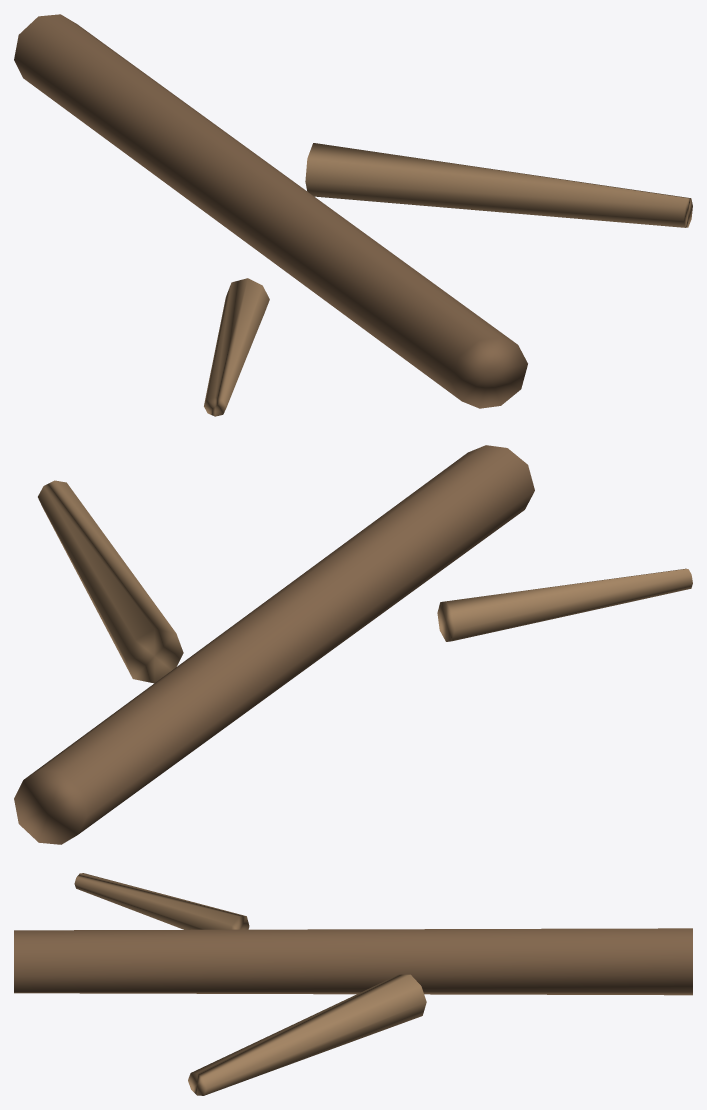
File: branch_a.glb
3 renders of one model, top to bottom at view 1: azimuth 30°, elevation 25°; view 2: azimuth 150°, elevation 25°; view 3: azimuth 270°, elevation 25°, orthographic. The views are drawn at different scales.
Visible parts, largest first — view 1: branch_a; view 2: branch_a; view 3: branch_a.
Part boxes in pixels (x1,y1,x2,y2): branch_a: [14, 14, 692, 416]; branch_a: [14, 445, 692, 844]; branch_a: [14, 873, 692, 1095].
Bounding box in the file's own units: 0.7081 × 0.0896 × 0.95.
